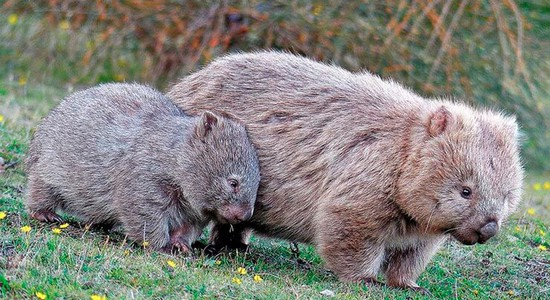Wombat: (158, 47, 525, 292), (18, 75, 264, 255)
